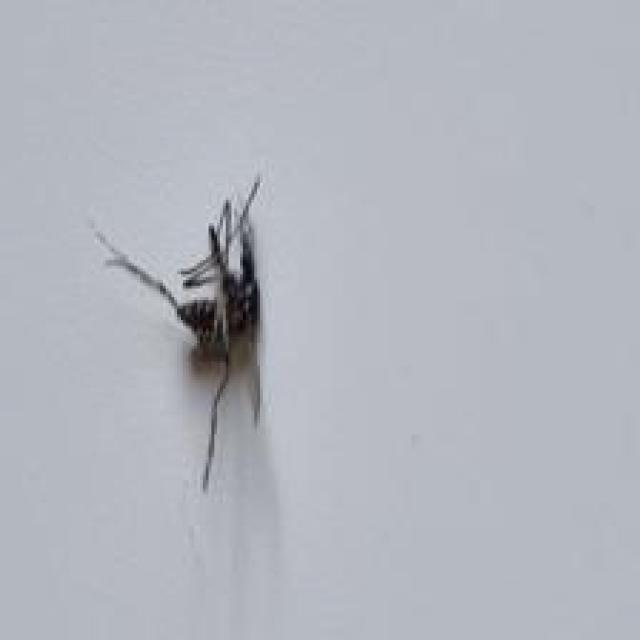Aedes albopictus: (89, 172, 268, 492)
